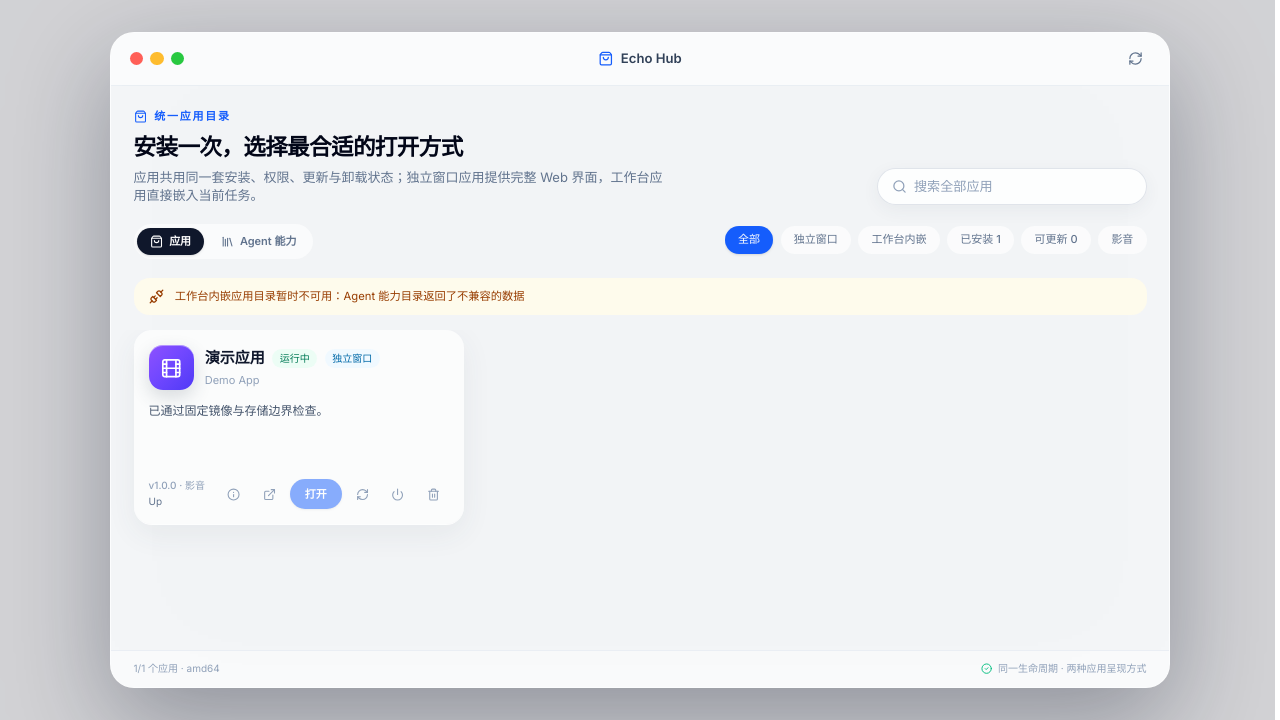
Scenario: Echo Hub panel › turns bounded incidents into recovery guidance and a safe restart plan
What coordinates should you click on to do the following:
click the button named "查看 演示应用 详情"
I would click on:
 (234, 494)
Its box is [218, 479, 248, 509].
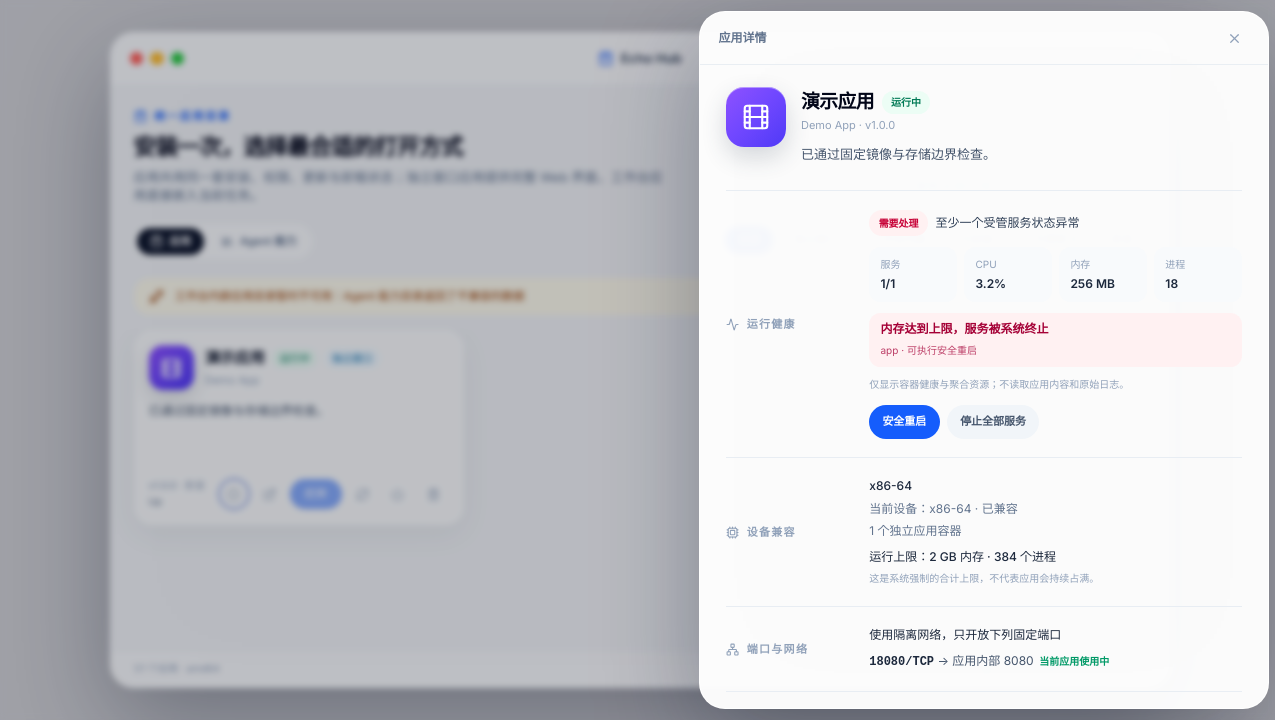
Expected: the dialog named "演示应用 应用详情" shows "内存达到上限，服务被系统终止", [880, 321, 1048, 336]
Expected: the dialog named "演示应用 应用详情" shows "可执行安全重启", [904, 344, 977, 356]
What coordinates should you click on to do the following:
click the button "安全重启"
I would click on:
 (904, 422)
Its box is [869, 405, 940, 439].
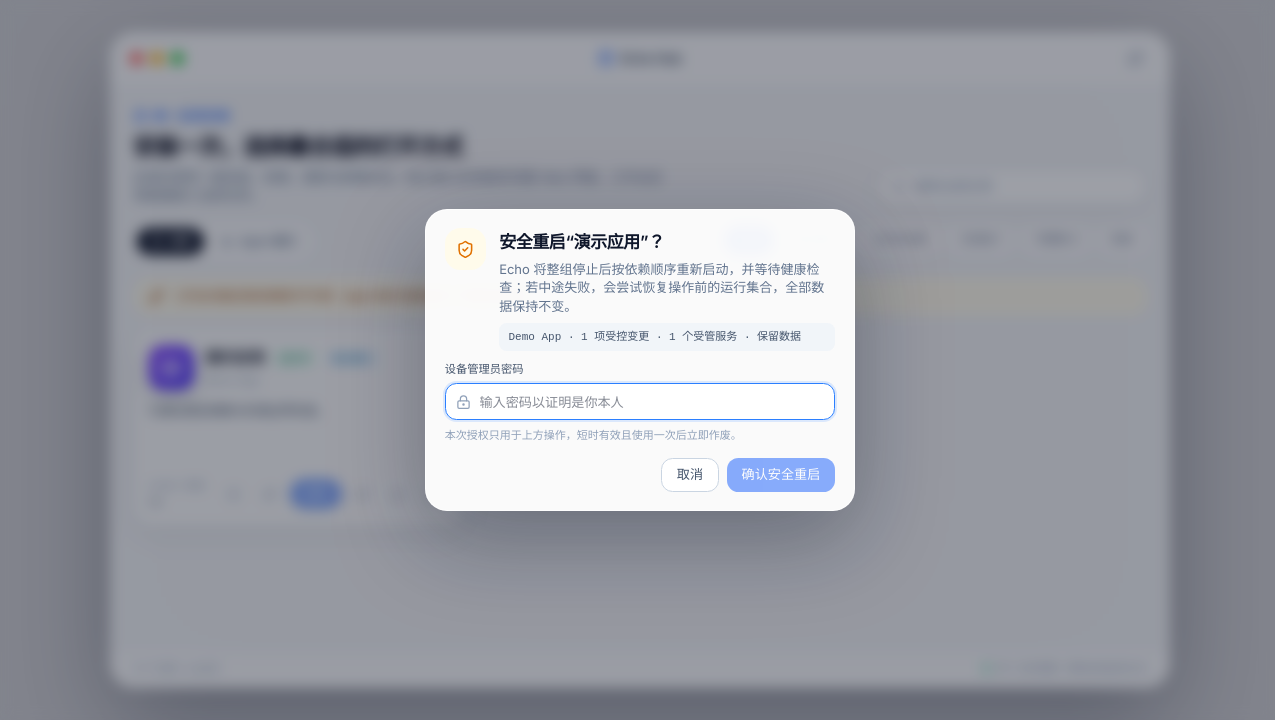
Expected: the dialog "安全重启“演示应用”？" shows "整组停止后按依赖顺序重新启动", [499, 260, 824, 314]
